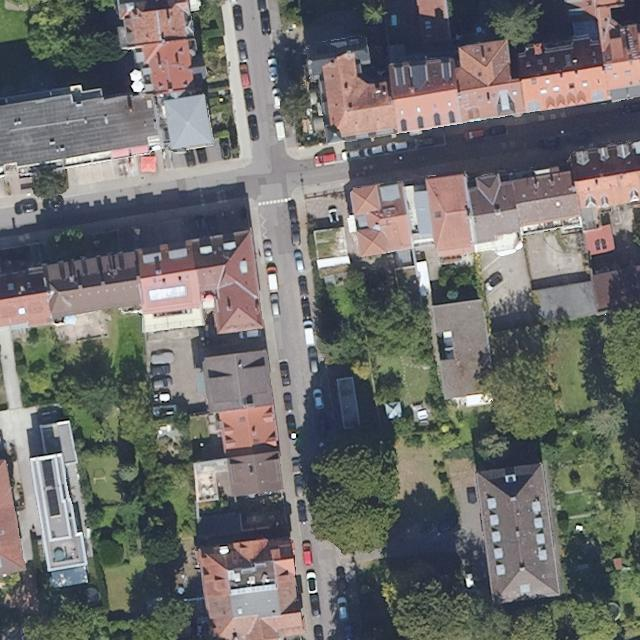PV: (41, 458, 61, 517), (148, 284, 188, 302)
